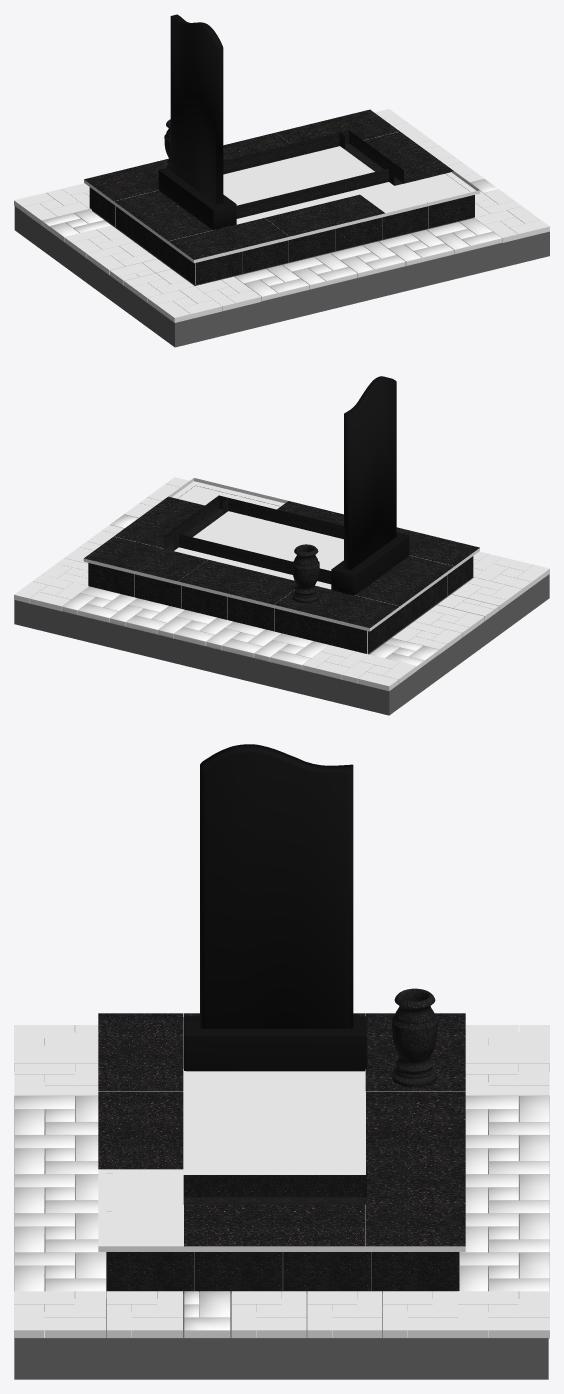
File: example.glb
The picture shows the model from 3 angles, top to bottom: view 1: azimuth 30°, elevation 25°; view 2: azimuth 150°, elevation 25°; view 3: azimuth 270°, elevation 25°; orthographic projection. The views are drawn at different scales.
Visible parts, largest first — view 1: vaza, Плоскость.140; view 2: vaza, Плоскость.140; view 3: vaza, Плоскость.140.
Part boxes in pixels (<box>): vaza: <box>84,14,480,284</box>; Плоскость.140: <box>14,109,549,347</box>; vaza: <box>83,376,479,653</box>; Плоскость.140: <box>14,477,549,715</box>; vaza: <box>98,744,465,1290</box>; Плоскость.140: <box>14,1025,549,1379</box>.
Size of the model in its own units: 2.36 by 1.48 by 1.75.
4 materials, 1 textured.
